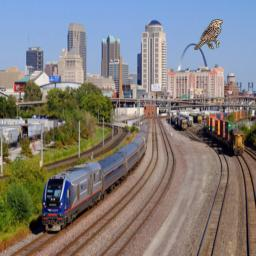Sparrow: (194, 19, 223, 50)
